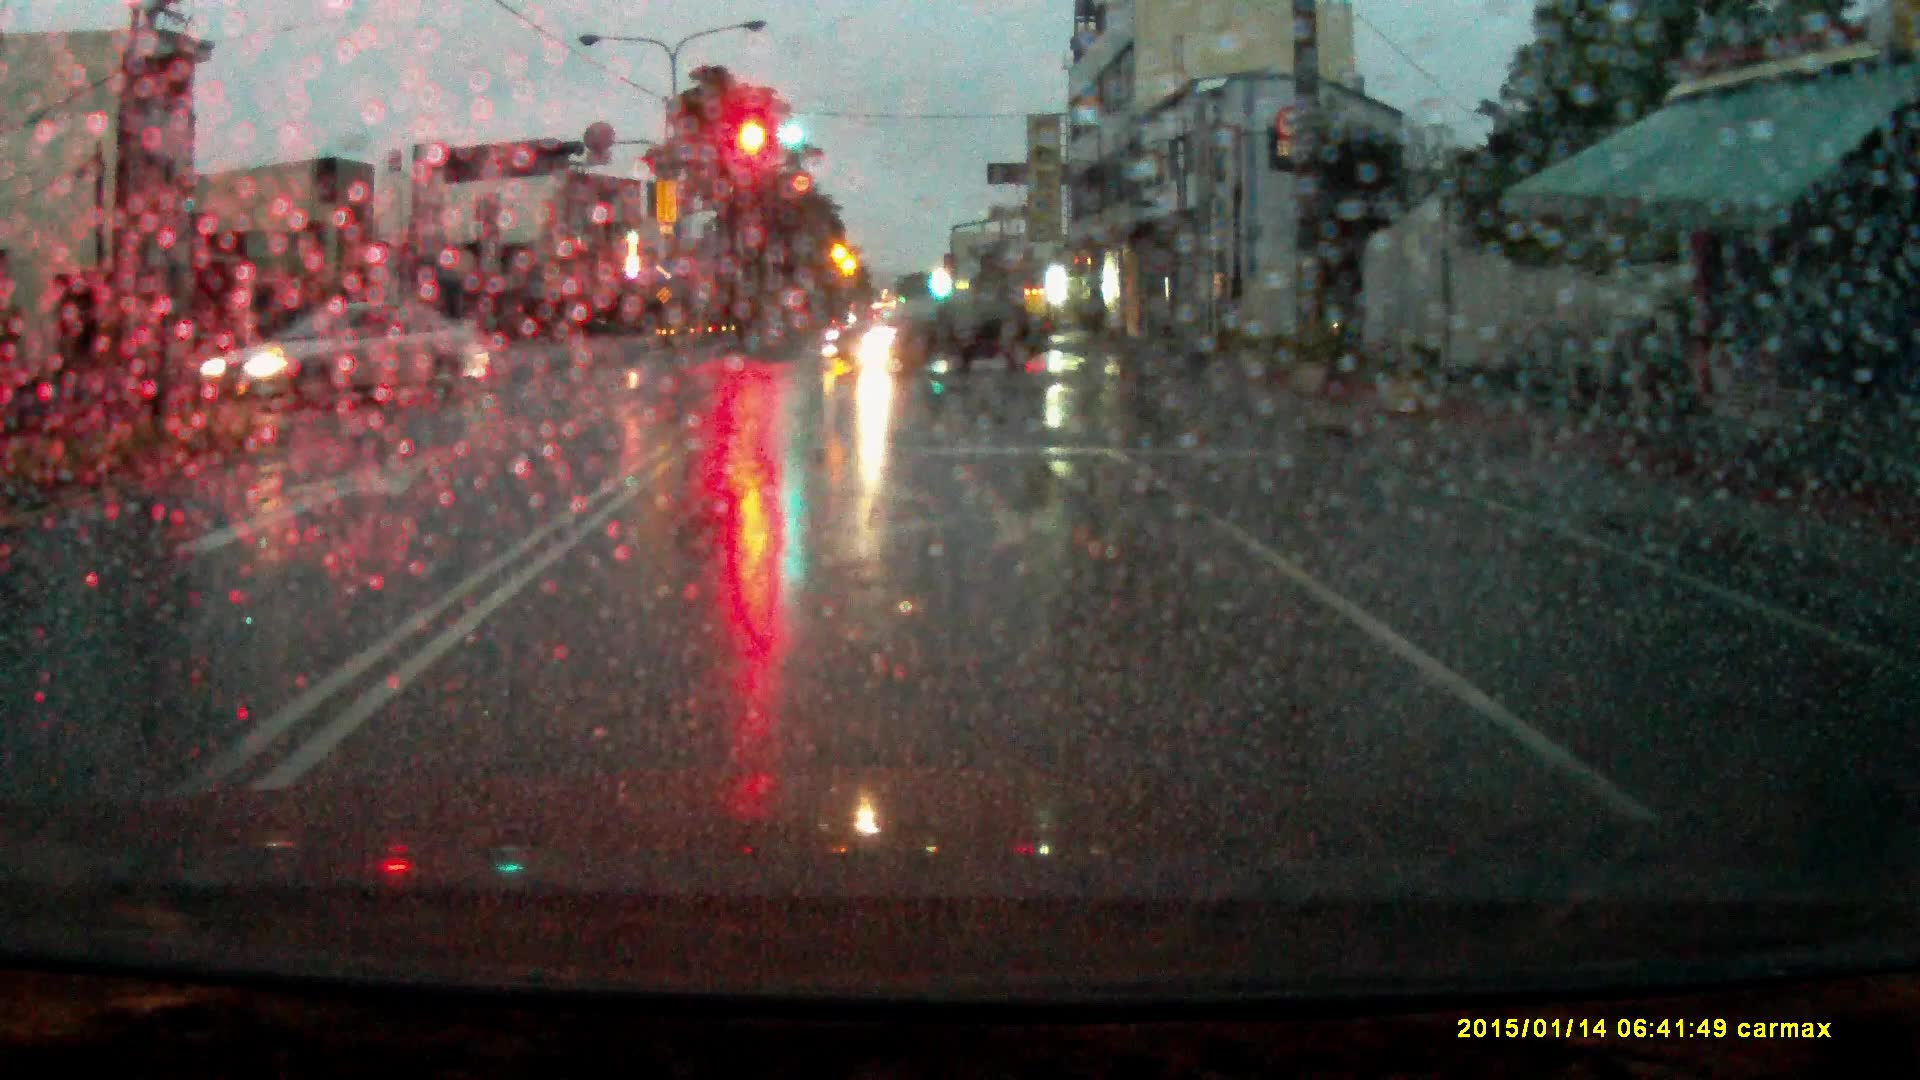vehicle: (190, 298, 495, 402), (827, 289, 1054, 375)
